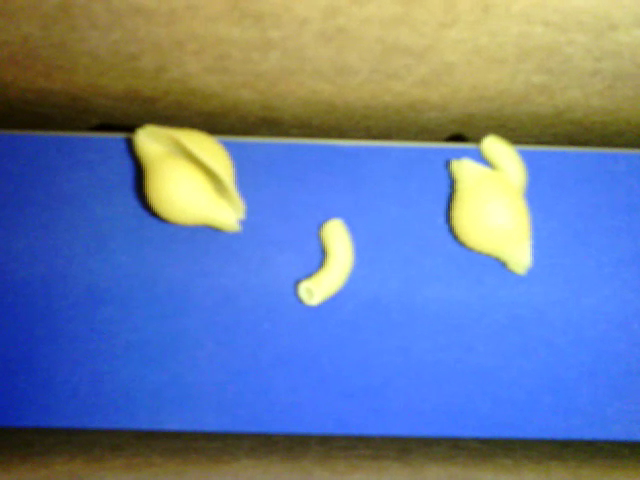elbow: (295, 216, 356, 308), (479, 132, 527, 194)
shell: (133, 124, 248, 236), (445, 154, 533, 275)
